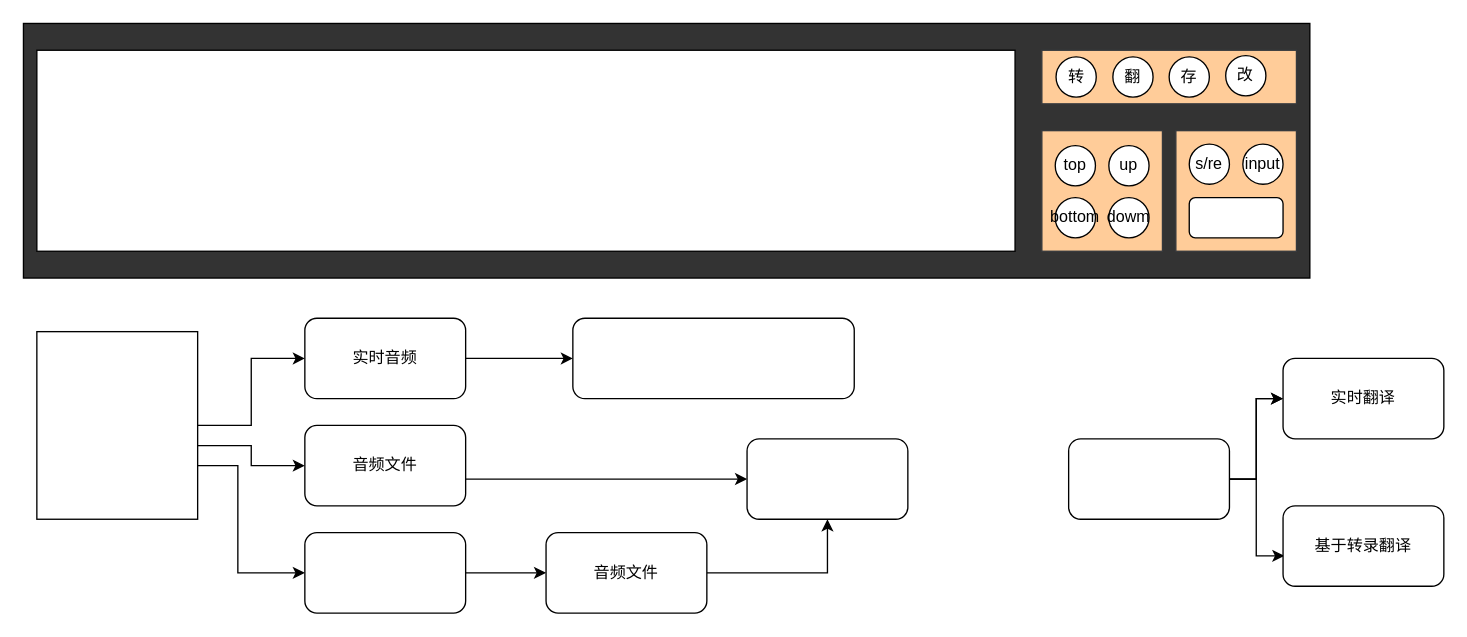
This 1467x637 diagram has some shape labels left out. The centre of each missing label's shape, as x and y in pixels:
"whisper" belongs at (827,478).
"翻译模型" belongs at (1148,478).
"视频" belongs at (385,572).
"设备音响输入 外接设备输入：注意多输入设备选择" belongs at (713,358).
"退出" belongs at (1235,217).
"音频来源" belongs at (117,424).
